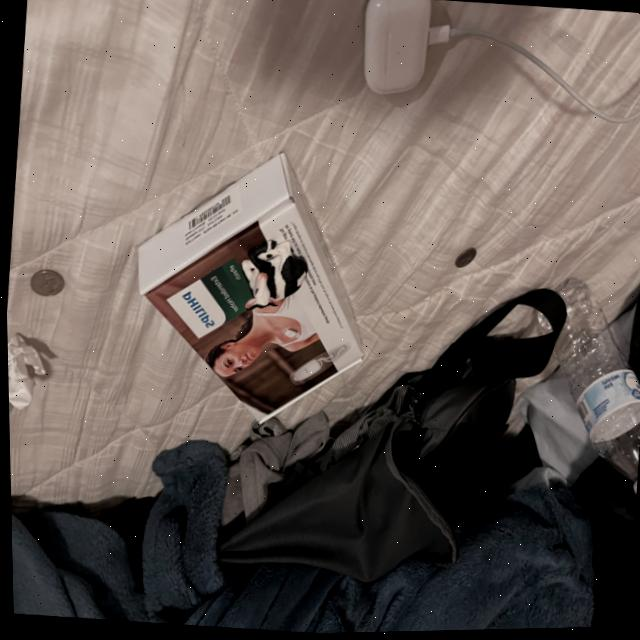cow: (230, 231, 313, 312)
